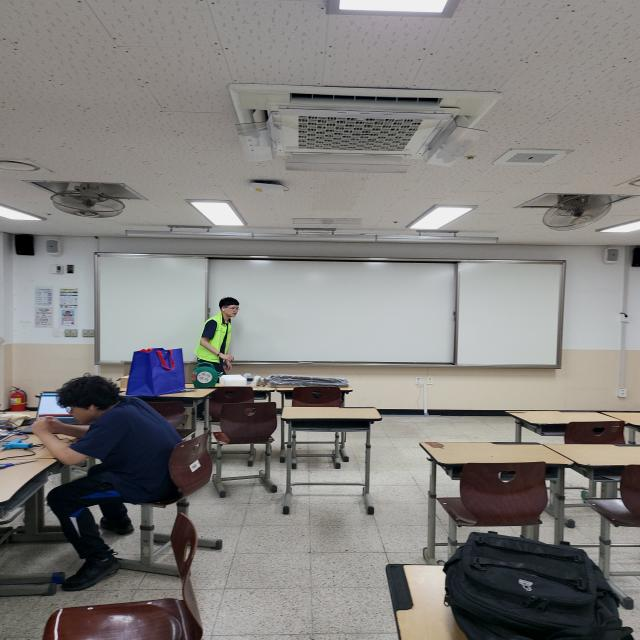weston_spy: (191, 311, 241, 369)
